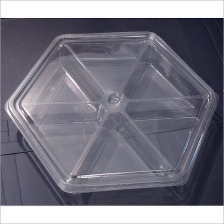plastic_box: (0, 24, 224, 202)
